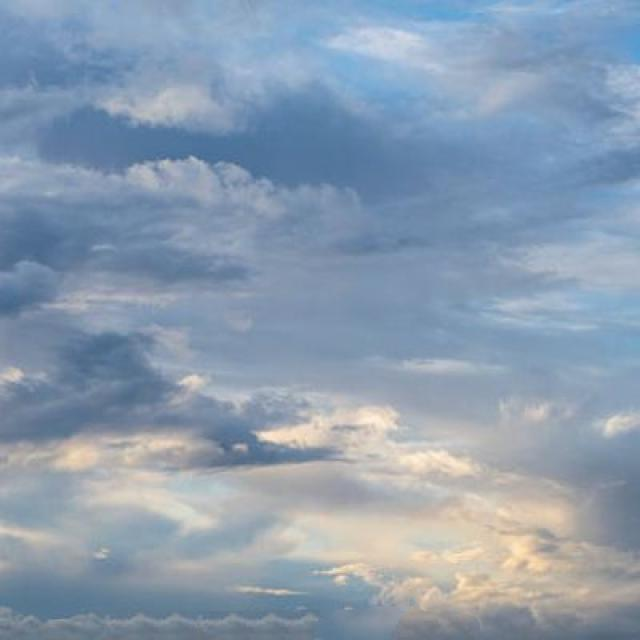Ns: (1, 89, 640, 572)
